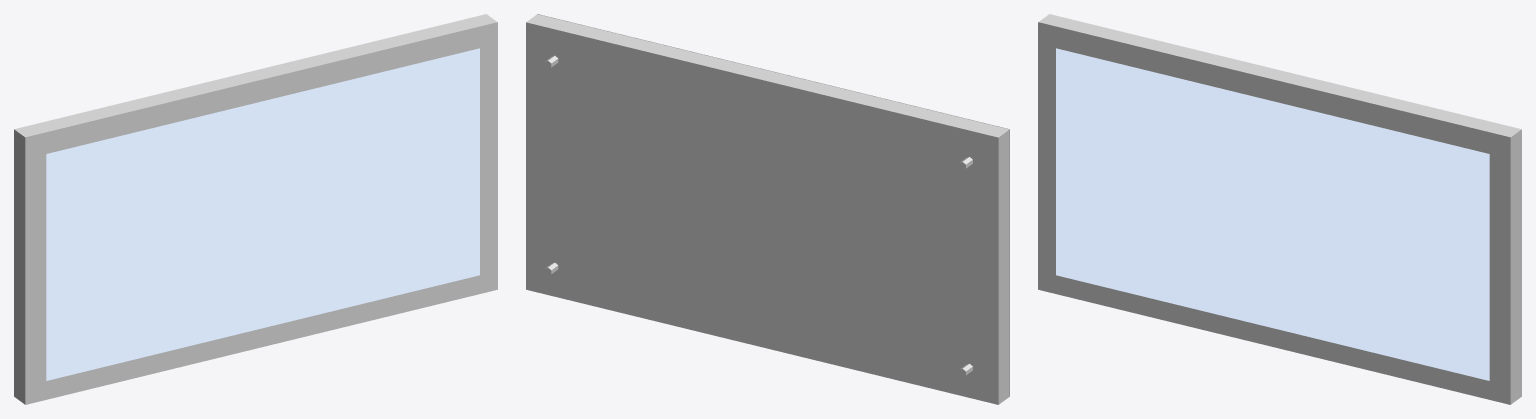
File: sign_oden_bar.glb
The picture shows the model from 3 angles, left to right: view 1: azimuth 30°, elevation 25°; view 2: azimuth 150°, elevation 25°; view 3: azimuth 330°, elevation 25°; orthographic projection.
Visible parts, largest first — view 1: sign_oden_bar_LOD0; view 2: sign_oden_bar_LOD0; view 3: sign_oden_bar_LOD0.
Part boxes in pixels (<box>): sign_oden_bar_LOD0: <box>14,14,497,404</box>; sign_oden_bar_LOD0: <box>526,14,1009,404</box>; sign_oden_bar_LOD0: <box>1038,14,1521,404</box>.
Size of what is drawn, in the model's own units: 0.98 by 0.53 by 0.071.
